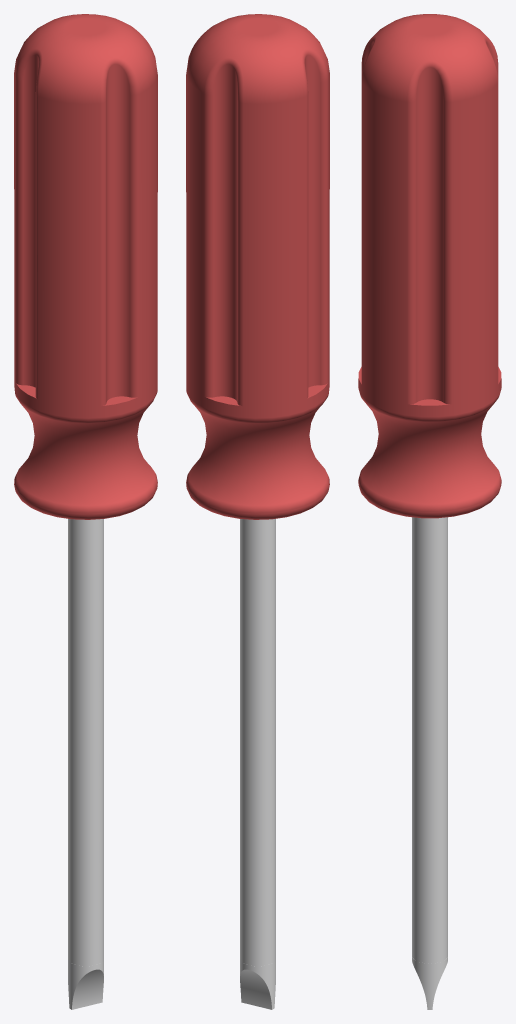
3 renders of one model, left to right at view 1: azimuth 30°, elevation 25°; view 2: azimuth 150°, elevation 25°; view 3: azimuth 270°, elevation 25°, orthographic.
Parts seen in each view (by area): view 1: Body1, Body1:1, Body1:2; view 2: Body1, Body1:1, Body1:2; view 3: Body1, Body1:1, Body1:2.
Part boxes in pixels (x1,y1,x2,y2): Body1: (14,14,157,519); Body1:1: (68,519,103,966); Body1:2: (68,959,103,1009); Body1: (186,14,329,519); Body1:1: (240,519,275,966); Body1:2: (240,959,275,1009); Body1: (358,14,501,518); Body1:1: (412,517,447,963); Body1:2: (412,956,447,1009).
Size of the model in its own units: 2.8 by 21 by 2.8.
